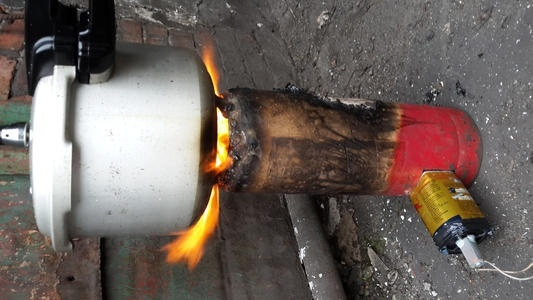fire: (160, 182, 224, 266), (209, 106, 232, 171), (200, 46, 225, 96)
